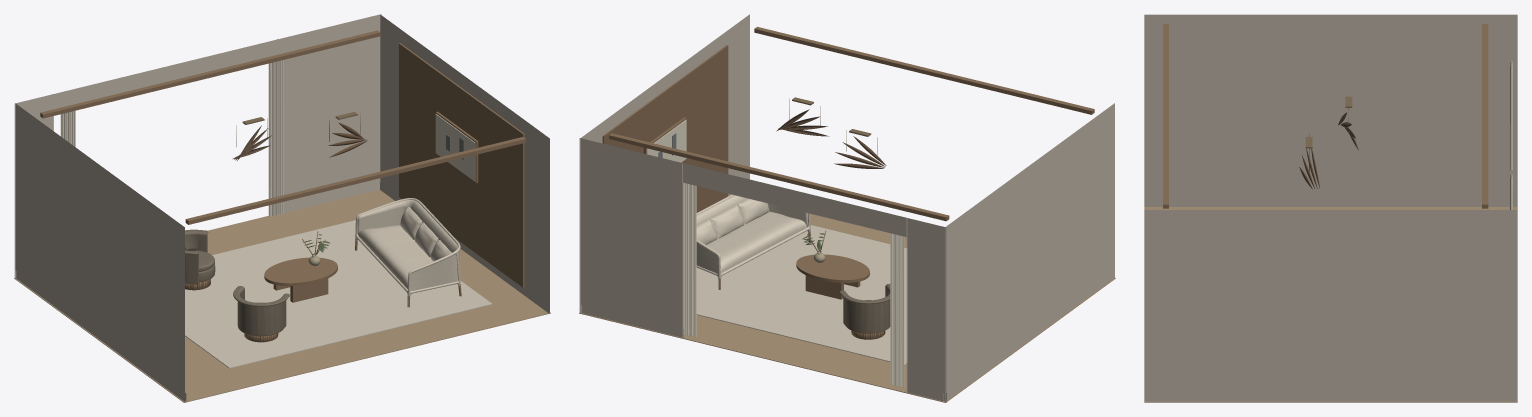
File: great-1.glb
3 renders of one model, left to right at view 1: azimuth 30°, elevation 25°; view 2: azimuth 150°, elevation 25°; view 3: azimuth 270°, elevation 25°, orthographic. The views are drawn at different scales.
Visible parts, largest first — view 1: DESIGN | great removable wall finish, DESIGN | Great room primary ground, DESIGN | Retreat timber wall plane, DESIGN | great floor finish, DESIGN | Great room sofa facing conversation, DESIGN | Retreat concealed light edge.001, DESIGN | Retreat concealed light edge, DESIGN | Great room soft window edge.001, DESIGN | Required Bellustar swivel chair one, DESIGN | Great room conversation table top, DESIGN | Required Bellustar swivel chair two, DESIGN | Textile artwork.001 (+3 smaller); view 2: DESIGN | great removable wall finish, DESIGN | Great room primary ground, DESIGN | Retreat timber wall plane, DESIGN | great floor finish, DESIGN | Great room sofa facing conversation, DESIGN | Retreat concealed light edge, DESIGN | Retreat concealed light edge.001, DESIGN | Great room soft window edge, DESIGN | Great room soft window edge.001, DESIGN | Required Bellustar swivel chair two, DESIGN | Great room conversation table top, DESIGN | Textile artwork.001 (+3 smaller); view 3: DESIGN | great removable wall finish, DESIGN | great floor finish, DESIGN | Retreat concealed light edge.001, DESIGN | Retreat concealed light edge, DESIGN | Great room soft window edge, DESIGN | Required Flou pendant 2.
Boxes of the visible parts, left/top/right/bottom form: DESIGN | great removable wall finish: left=14, top=14, right=549, bottom=401; DESIGN | Great room primary ground: left=185, top=220, right=492, bottom=368; DESIGN | Retreat timber wall plane: left=399, top=43, right=524, bottom=287; DESIGN | great floor finish: left=14, top=190, right=550, bottom=402; DESIGN | Great room sofa facing conversation: left=355, top=198, right=461, bottom=307; DESIGN | Retreat concealed light edge.001: left=40, top=30, right=380, bottom=118; DESIGN | Retreat concealed light edge: left=185, top=137, right=525, bottom=224; DESIGN | Great room soft window edge.001: left=268, top=60, right=283, bottom=216; DESIGN | Required Bellustar swivel chair one: left=233, top=286, right=289, bottom=342; DESIGN | Great room conversation table top: left=264, top=257, right=337, bottom=285; DESIGN | Required Bellustar swivel chair two: left=185, top=229, right=215, bottom=290; DESIGN | Textile artwork.001: left=435, top=114, right=475, bottom=181; DESIGN | great removable wall finish: left=579, top=14, right=1114, bottom=401; DESIGN | Great room primary ground: left=696, top=225, right=907, bottom=365; DESIGN | Retreat timber wall plane: left=602, top=45, right=728, bottom=212; DESIGN | great floor finish: left=579, top=214, right=1115, bottom=402; DESIGN | Great room sofa facing conversation: left=696, top=194, right=810, bottom=289; DESIGN | Retreat concealed light edge: left=754, top=26, right=1094, bottom=114; DESIGN | Retreat concealed light edge.001: left=609, top=133, right=949, bottom=221; DESIGN | Great room soft window edge: left=890, top=233, right=904, bottom=387; DESIGN | Great room soft window edge.001: left=683, top=182, right=696, bottom=337; DESIGN | Required Bellustar swivel chair two: left=839, top=283, right=890, bottom=339; DESIGN | Great room conversation table top: left=796, top=254, right=869, bottom=282; DESIGN | Textile artwork.001: left=646, top=119, right=686, bottom=162; DESIGN | great removable wall finish: left=1144, top=14, right=1517, bottom=401; DESIGN | great floor finish: left=1144, top=207, right=1517, bottom=402; DESIGN | Retreat concealed light edge.001: left=1482, top=24, right=1488, bottom=208; DESIGN | Retreat concealed light edge: left=1163, top=24, right=1168, bottom=208; DESIGN | Great room soft window edge: left=1509, top=59, right=1513, bottom=170; DESIGN | Required Flou pendant 2: left=1299, top=148, right=1319, bottom=189.
Size of the model in its own units: 6 by 2.74 by 4.82.
